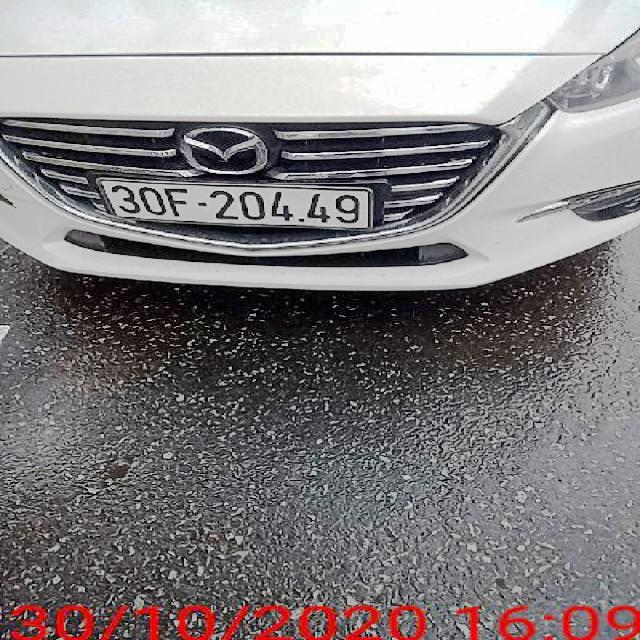license_plate: (104, 180, 368, 229)
